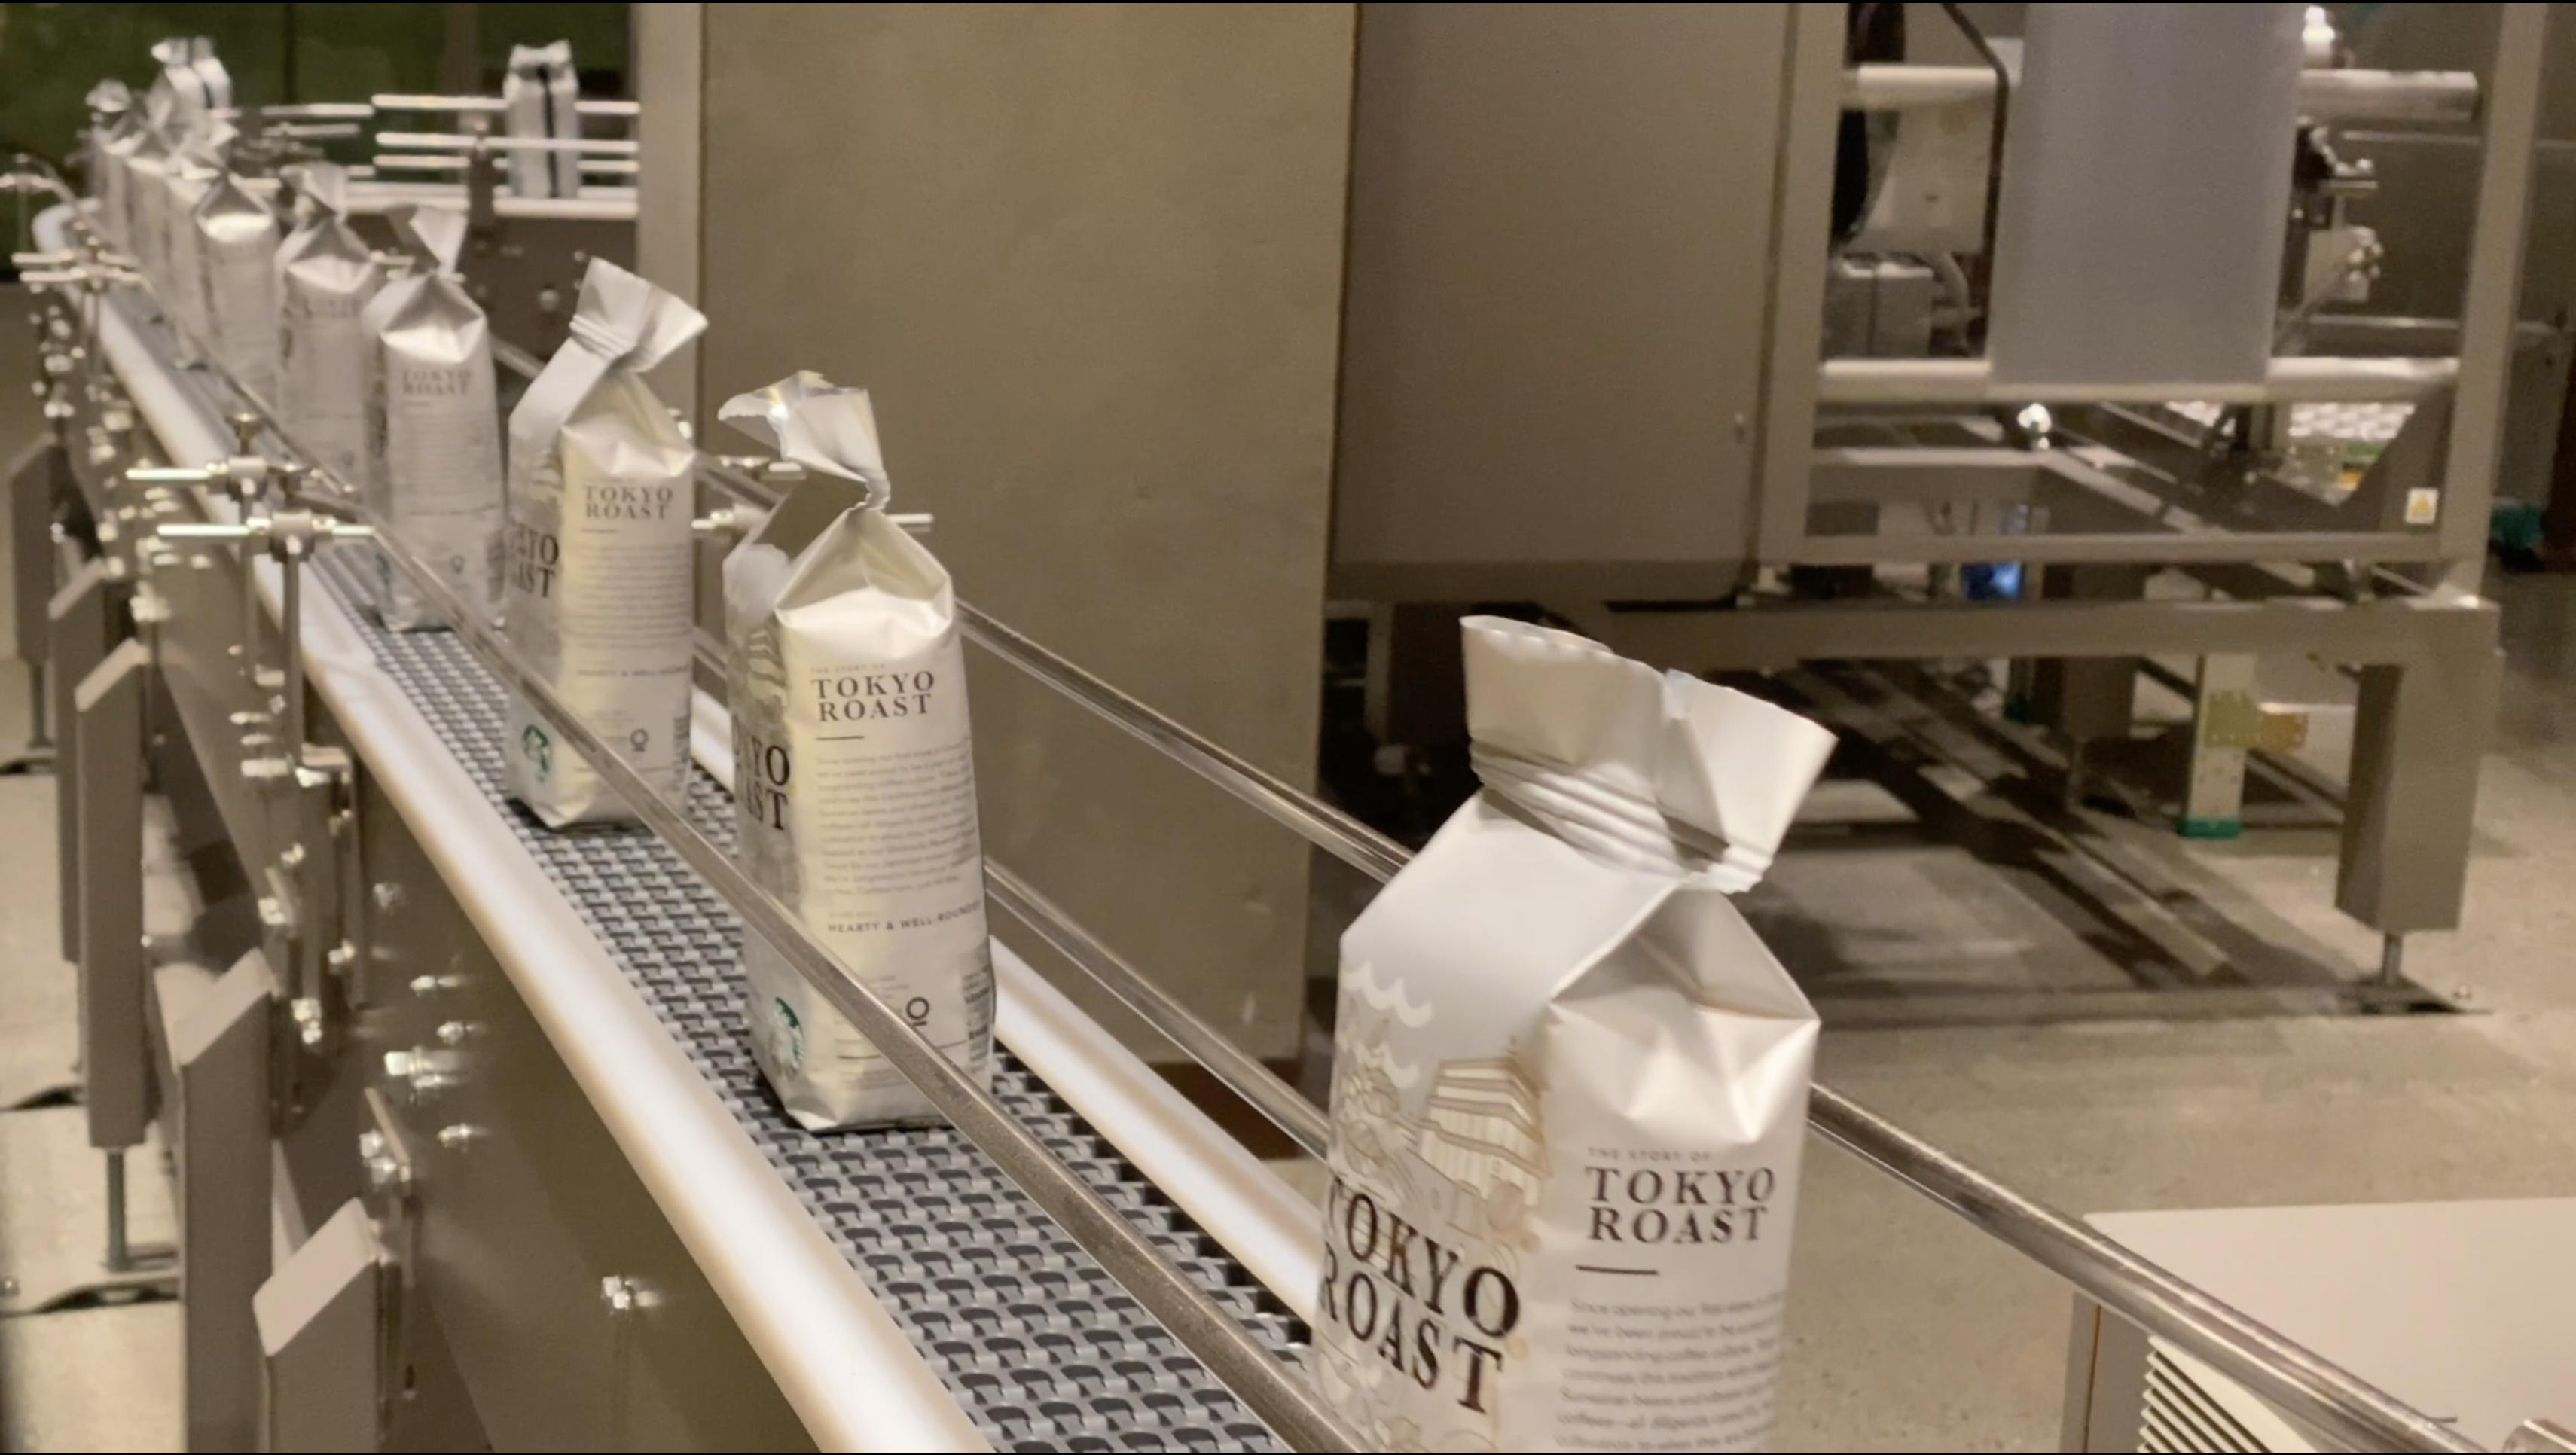bag: (1396, 598, 1780, 1455), (718, 378, 1028, 1117), (533, 288, 690, 815), (380, 232, 501, 617), (283, 191, 375, 504), (200, 136, 281, 387), (506, 48, 579, 193)
